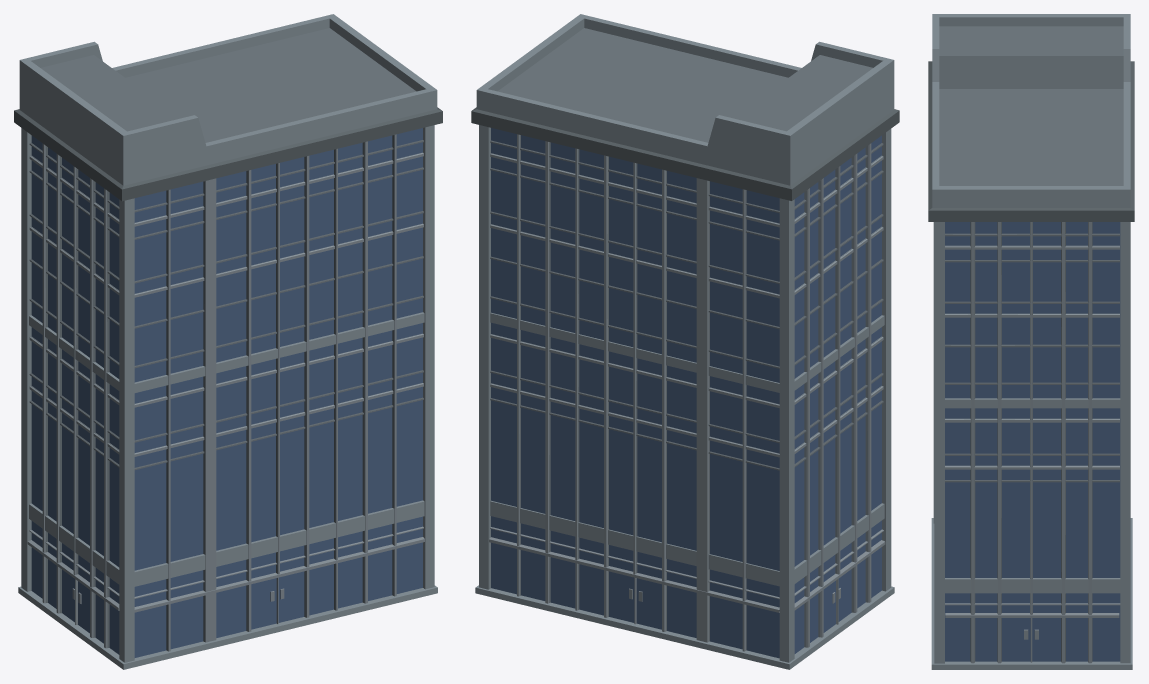
Rendered from SM_Gen_Bld_Background_09.obj.
The picture shows the model from 3 angles, left to right: view 1: azimuth 30°, elevation 25°; view 2: azimuth 150°, elevation 25°; view 3: azimuth 270°, elevation 25°; orthographic projection. The views are drawn at different scales.
Parts seen in each view (by area): view 1: SM_Gen_Bld_Background_09_0, SM_Gen_Bld_Background_09_1; view 2: SM_Gen_Bld_Background_09_0, SM_Gen_Bld_Background_09_1; view 3: SM_Gen_Bld_Background_09_0, SM_Gen_Bld_Background_09_1.
Boxes of the visible parts, x1=… form: SM_Gen_Bld_Background_09_0: x1=14, y1=14, x2=442, y2=669; SM_Gen_Bld_Background_09_1: x1=31, y1=128, x2=422, y2=657; SM_Gen_Bld_Background_09_0: x1=471, y1=14, x2=899, y2=669; SM_Gen_Bld_Background_09_1: x1=491, y1=128, x2=881, y2=658; SM_Gen_Bld_Background_09_0: x1=928, y1=14, x2=1134, y2=669; SM_Gen_Bld_Background_09_1: x1=945, y1=222, x2=1120, y2=661.
Bounding box in the file's own units: 13.84 × 21.98 × 8.06.
Materials: 2 (1 with a texture image).
